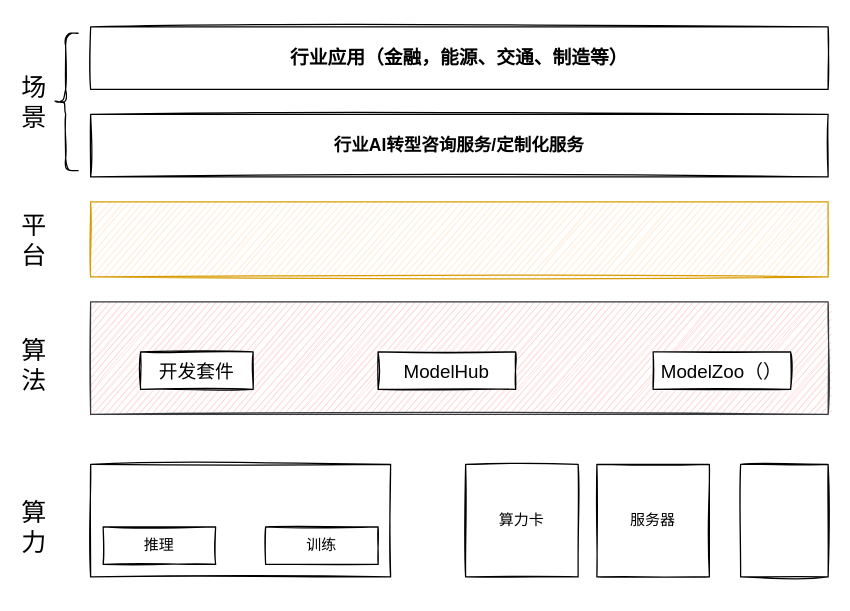
This 850x611 diagram has some shape labels left out. Here are the shapes that lost their labels. From the top down, the box of each, then its label:
(89, 201, 828, 277): AI开发平台
(89, 301, 828, 414): MindSpore
(89, 463, 391, 577): 服务类型
(739, 463, 828, 577): 服务器集群
